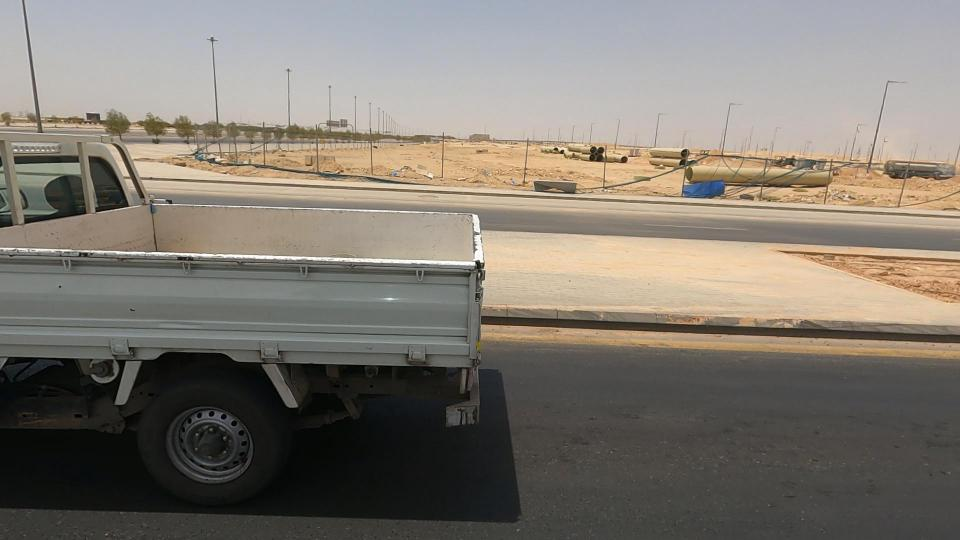GARBAGE: (645, 167, 745, 214), (169, 141, 256, 180), (485, 165, 550, 199), (224, 146, 279, 184), (364, 155, 416, 183), (436, 159, 480, 192), (407, 164, 448, 189)
